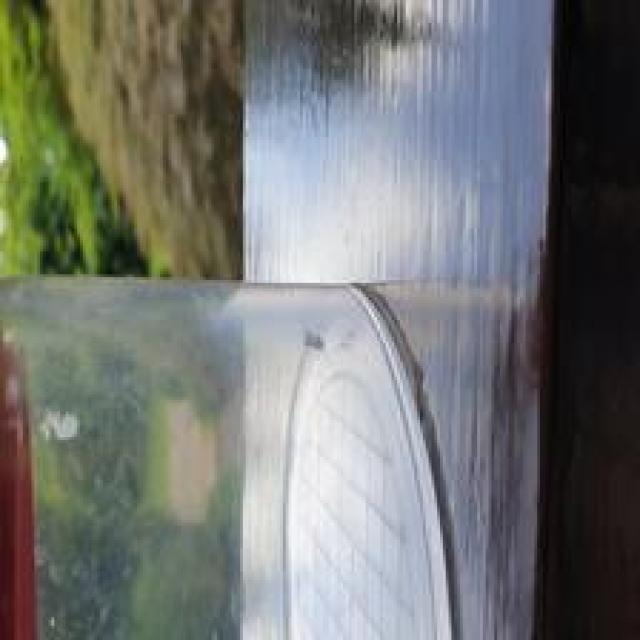Culex: (0, 271, 469, 640)
